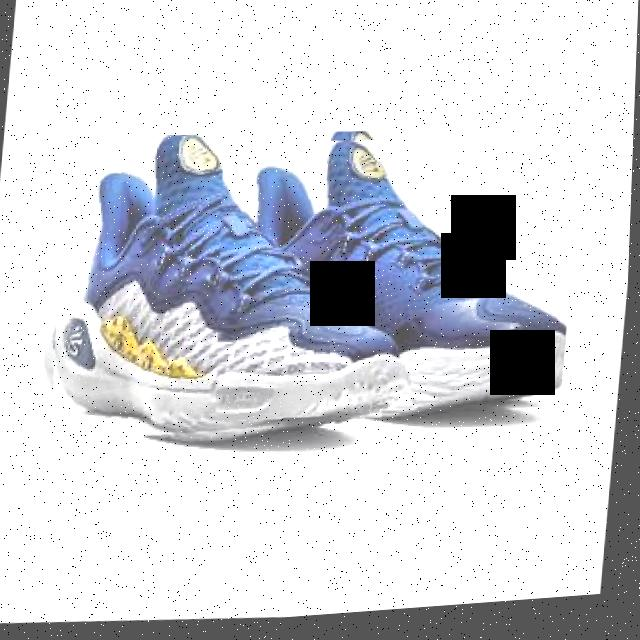shoe: (38, 118, 409, 464), (201, 126, 586, 445)
